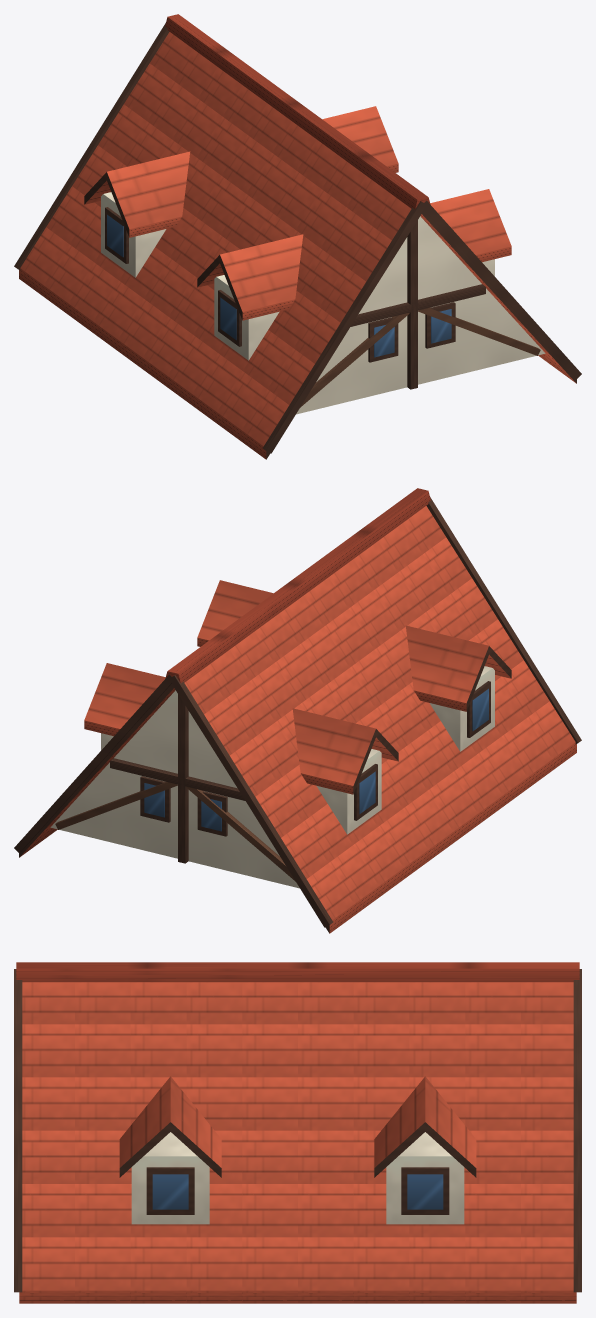
The model's file is bld_roof_a_8x10.glb.
The picture shows the model from 3 angles, top to bottom: view 1: azimuth 30°, elevation 25°; view 2: azimuth 150°, elevation 25°; view 3: azimuth 270°, elevation 25°; orthographic projection. The views are drawn at different scales.
Visible parts, largest first — view 1: bld_roof_a_8x10; view 2: bld_roof_a_8x10; view 3: bld_roof_a_8x10.
Boxes of the visible parts, x1,y1,x2,y2 form: bld_roof_a_8x10: [14, 14, 581, 459]; bld_roof_a_8x10: [14, 488, 581, 933]; bld_roof_a_8x10: [14, 962, 581, 1303].
Size of the model in its own units: 6.86 by 4.66 by 9.49.
Materials: 1 (1 with a texture image).
